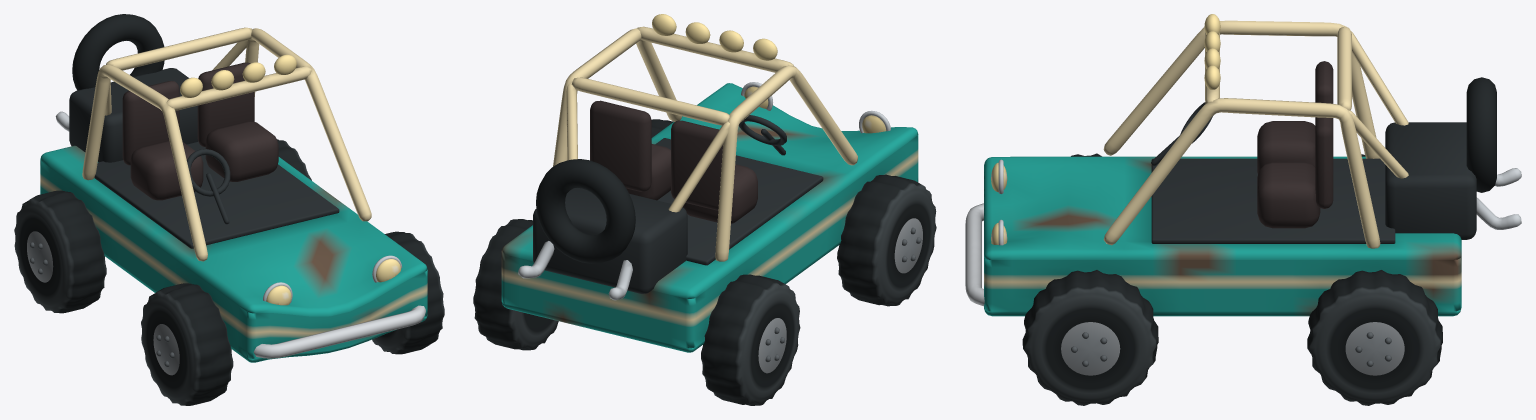
Rendered from buggy.glb.
3 views of the same model, side by side, from view 1: azimuth 30°, elevation 25°; view 2: azimuth 150°, elevation 25°; view 3: azimuth 270°, elevation 25° (orthographic). The views are drawn at different scales.
Visible parts, largest first — view 1: buggykrop, buggygulv, dæk_bag_venstre, dæk_for_venstre, bøjleside-1, buggymotor, buggyreservehjul, buggysæde1, bøjleside1, dæk_for_hoejre, buggysæde-1, buggykofanger (+11 smaller); view 2: buggykrop, dæk_for_venstre, dæk_bag_venstre, buggymotor, buggyreservehjul, buggygulv, dæk_bag_hoejre, bøjleside-1, buggyryg1, buggyryg-1, bøjleside1, bøjletvær-1.1 (+14 smaller); view 3: buggykrop, buggygulv, dæk_for_hoejre, dæk_bag_hoejre, buggymotor, bøjleside1, bøjleside-1, buggysæde1, buggyreservehjul, buggysæde-1, fælg_bag_hoejre, fælg_for_hoejre (+7 smaller).
Part boxes in pixels (x1,y1,x2,y2): buggykrop: (40, 145, 427, 362); buggygulv: (94, 141, 339, 248); dæk_bag_venstre: (14, 190, 106, 313); dæk_for_venstre: (141, 283, 233, 405); bøjleside-1: (82, 64, 207, 261); buggymotor: (69, 68, 198, 162); buggyreservehjul: (72, 14, 164, 90); buggysæde1: (205, 121, 278, 181); bøjleside1: (245, 28, 371, 221); dæk_for_hoejre: (372, 231, 444, 354); buggysæde-1: (130, 140, 203, 200); buggykofanger: (253, 305, 425, 358); buggykrop: (501, 83, 918, 352); dæk_for_venstre: (837, 174, 936, 306); dæk_bag_venstre: (701, 274, 800, 405); buggymotor: (533, 188, 687, 293); buggyreservehjul: (536, 159, 635, 263); buggygulv: (655, 138, 823, 265); dæk_bag_hoejre: (473, 219, 558, 350); bøjleside-1: (715, 65, 857, 261); buggyryg1: (590, 100, 651, 191); buggyryg-1: (671, 120, 722, 210); bøjleside1: (553, 28, 681, 166); bøjletvær-1.1: (571, 77, 729, 125); buggykrop: (984, 156, 1461, 316); buggygulv: (1151, 158, 1395, 243); dæk_for_hoejre: (1022, 270, 1158, 405); dæk_bag_hoejre: (1307, 270, 1442, 405); buggymotor: (1385, 122, 1476, 239); bøjleside1: (1103, 98, 1380, 248); bøjleside-1: (1103, 20, 1379, 158); buggysæde1: (1257, 162, 1320, 228); buggyreservehjul: (1466, 77, 1496, 192); buggysæde-1: (1257, 121, 1315, 173); fælg_bag_hoejre: (1345, 322, 1404, 375); fælg_for_hoejre: (1061, 322, 1120, 375).
Size of the model in its own units: 3.32 by 3.26 by 5.47.
